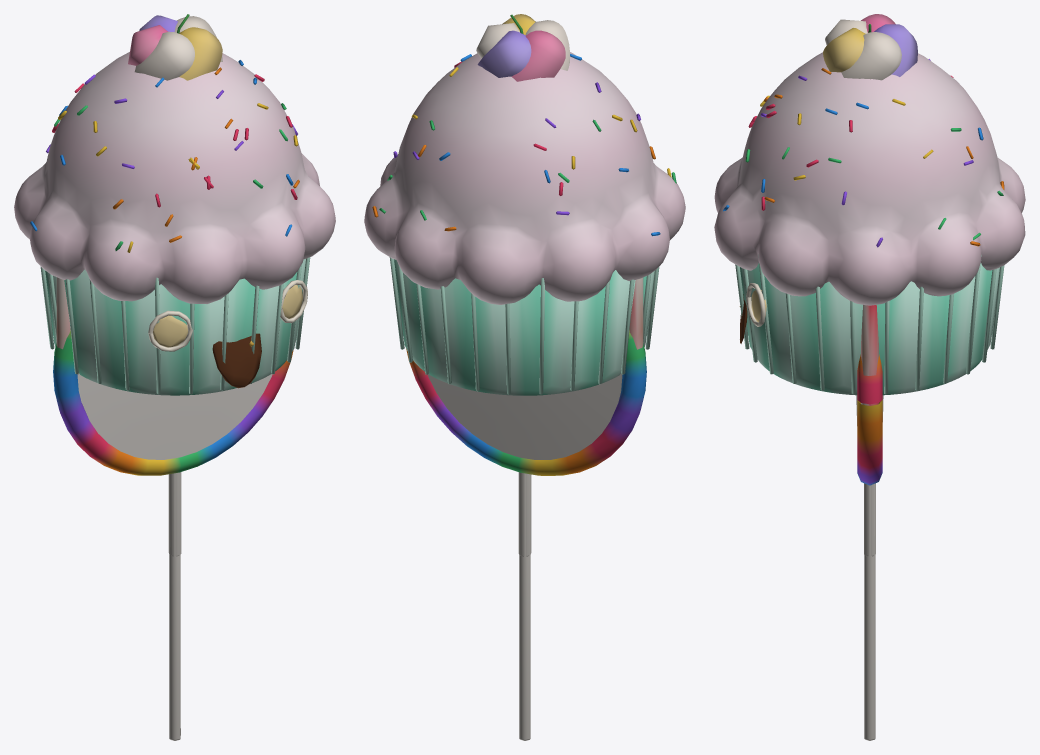
Rendered from village.lite.glb.
3 views of the same model, side by side, from view 1: azimuth 30°, elevation 25°; view 2: azimuth 150°, elevation 25°; view 3: azimuth 270°, elevation 25° (orthographic).
Parts seen in each view (by area): view 1: HouseMint, LollipopFlat, TwistLo, Fence; view 2: HouseMint, LollipopFlat, TwistLo, Fence; view 3: HouseMint, TwistLo, LollipopFlat, Fence.
Part boxes in pixels (x1,y1,x2,y2): HouseMint: (14, 14, 335, 395); LollipopFlat: (53, 330, 293, 740); TwistLo: (128, 15, 222, 556); Fence: (56, 277, 70, 349); HouseMint: (364, 14, 685, 395); LollipopFlat: (406, 330, 646, 740); TwistLo: (476, 14, 569, 556); Fence: (629, 277, 643, 349); HouseMint: (714, 24, 1025, 395); TwistLo: (823, 14, 917, 556); LollipopFlat: (856, 354, 883, 740); Fence: (861, 305, 878, 405).
Size of the model in its own units: 2.55 by 6.29 by 2.46.
